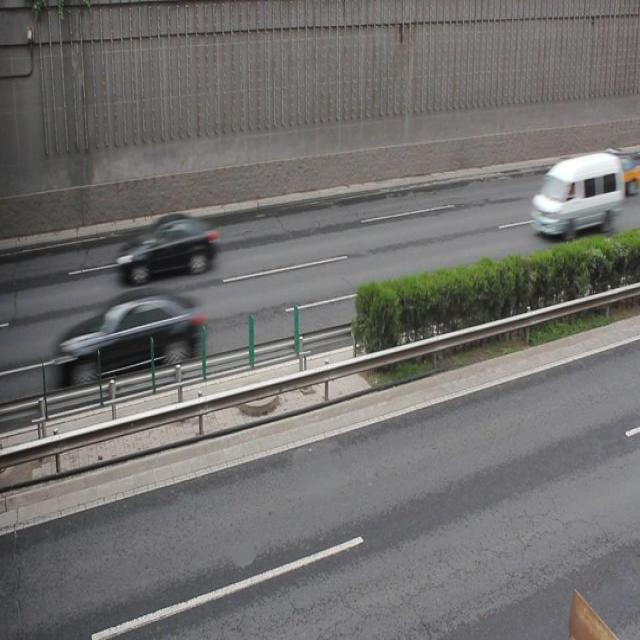car: (60, 287, 206, 383), (118, 212, 220, 285)
truck: (528, 154, 621, 235)
